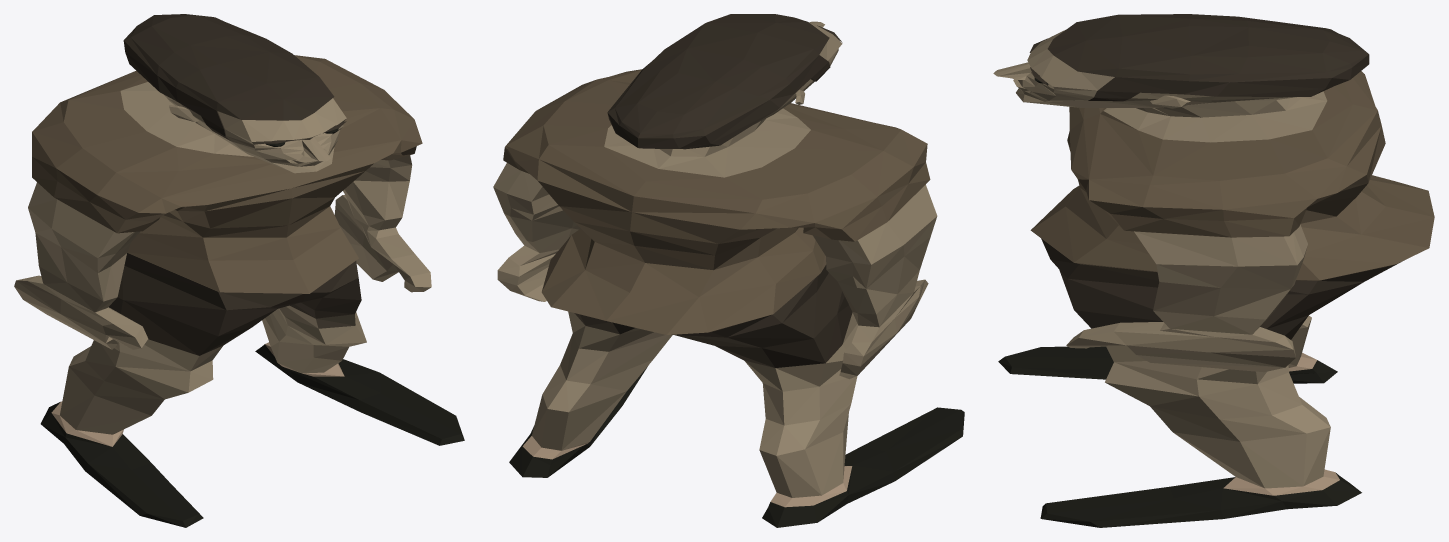
The model's file is man.glb.
3 renders of one model, left to right at view 1: azimuth 30°, elevation 25°; view 2: azimuth 150°, elevation 25°; view 3: azimuth 270°, elevation 25°, orthographic. The views are drawn at different scales.
Bounding box in the file's own units: 1 × 0.9991 × 1.
